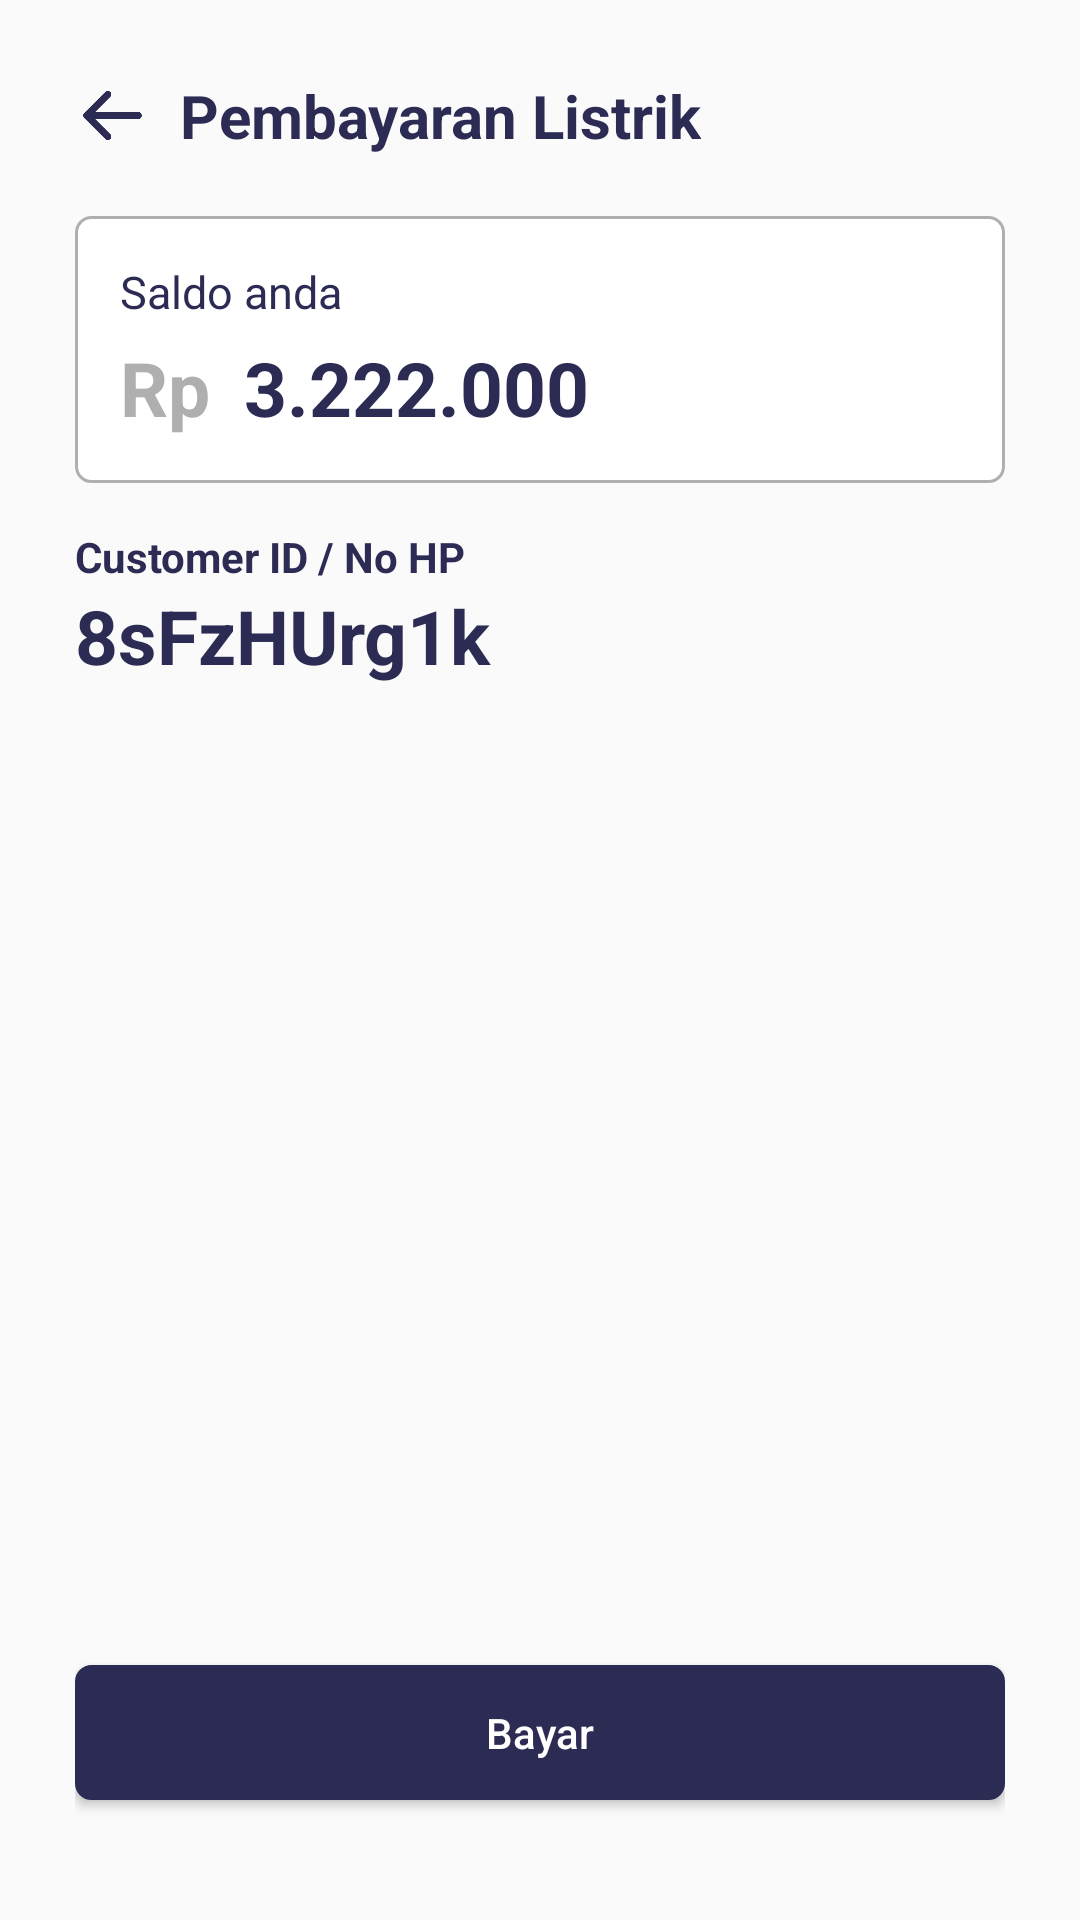

Named icons in this screenshot (1080px×1920px) and their centers, [x,y]:
arrow back: [112,115]
